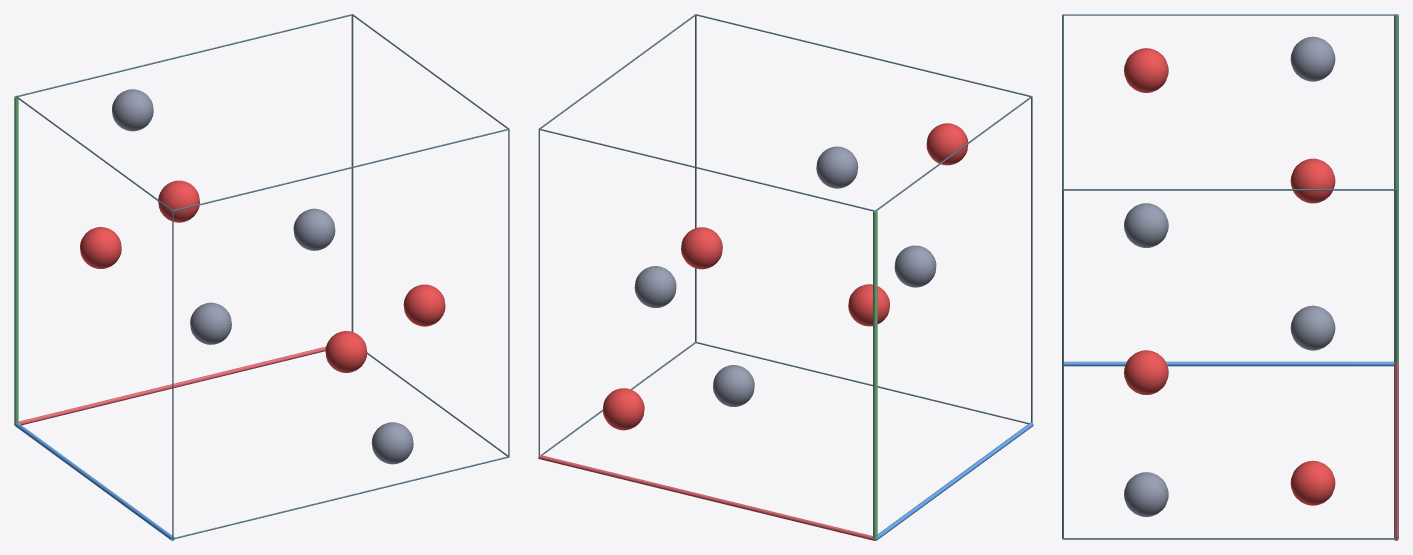
File: chat-massicot.glb
The picture shows the model from 3 angles, left to right: view 1: azimuth 30°, elevation 25°; view 2: azimuth 150°, elevation 25°; view 3: azimuth 270°, elevation 25°; orthographic projection. The views are drawn at different scales.
Parts seen in each view (by area): view 1: Ô mạng và các trục a, b, c, Pb · Pb · 1 (×4), O · O · 1 (×4); view 2: Ô mạng và các trục a, b, c, Pb · Pb · 1 (×4), O · O · 1 (×4); view 3: Ô mạng và các trục a, b, c, Pb · Pb · 1 (×4), O · O · 1 (×4).
Part boxes in pixels (<box>): Ô mạng và các trục a, b, c: <box>14,14,509,540</box>; Pb · Pb · 1 (×4): <box>112,89,413,464</box>; O · O · 1 (×4): <box>80,180,445,372</box>; Ô mạng và các trục a, b, c: <box>538,14,1033,540</box>; Pb · Pb · 1 (×4): <box>634,146,936,406</box>; O · O · 1 (×4): <box>602,123,968,430</box>; Ô mạng và các trục a, b, c: <box>1062,14,1398,540</box>; Pb · Pb · 1 (×4): <box>1124,36,1335,516</box>; O · O · 1 (×4): <box>1124,48,1335,505</box>.
Size of the model in its own units: 5.94 by 6 by 4.8.
